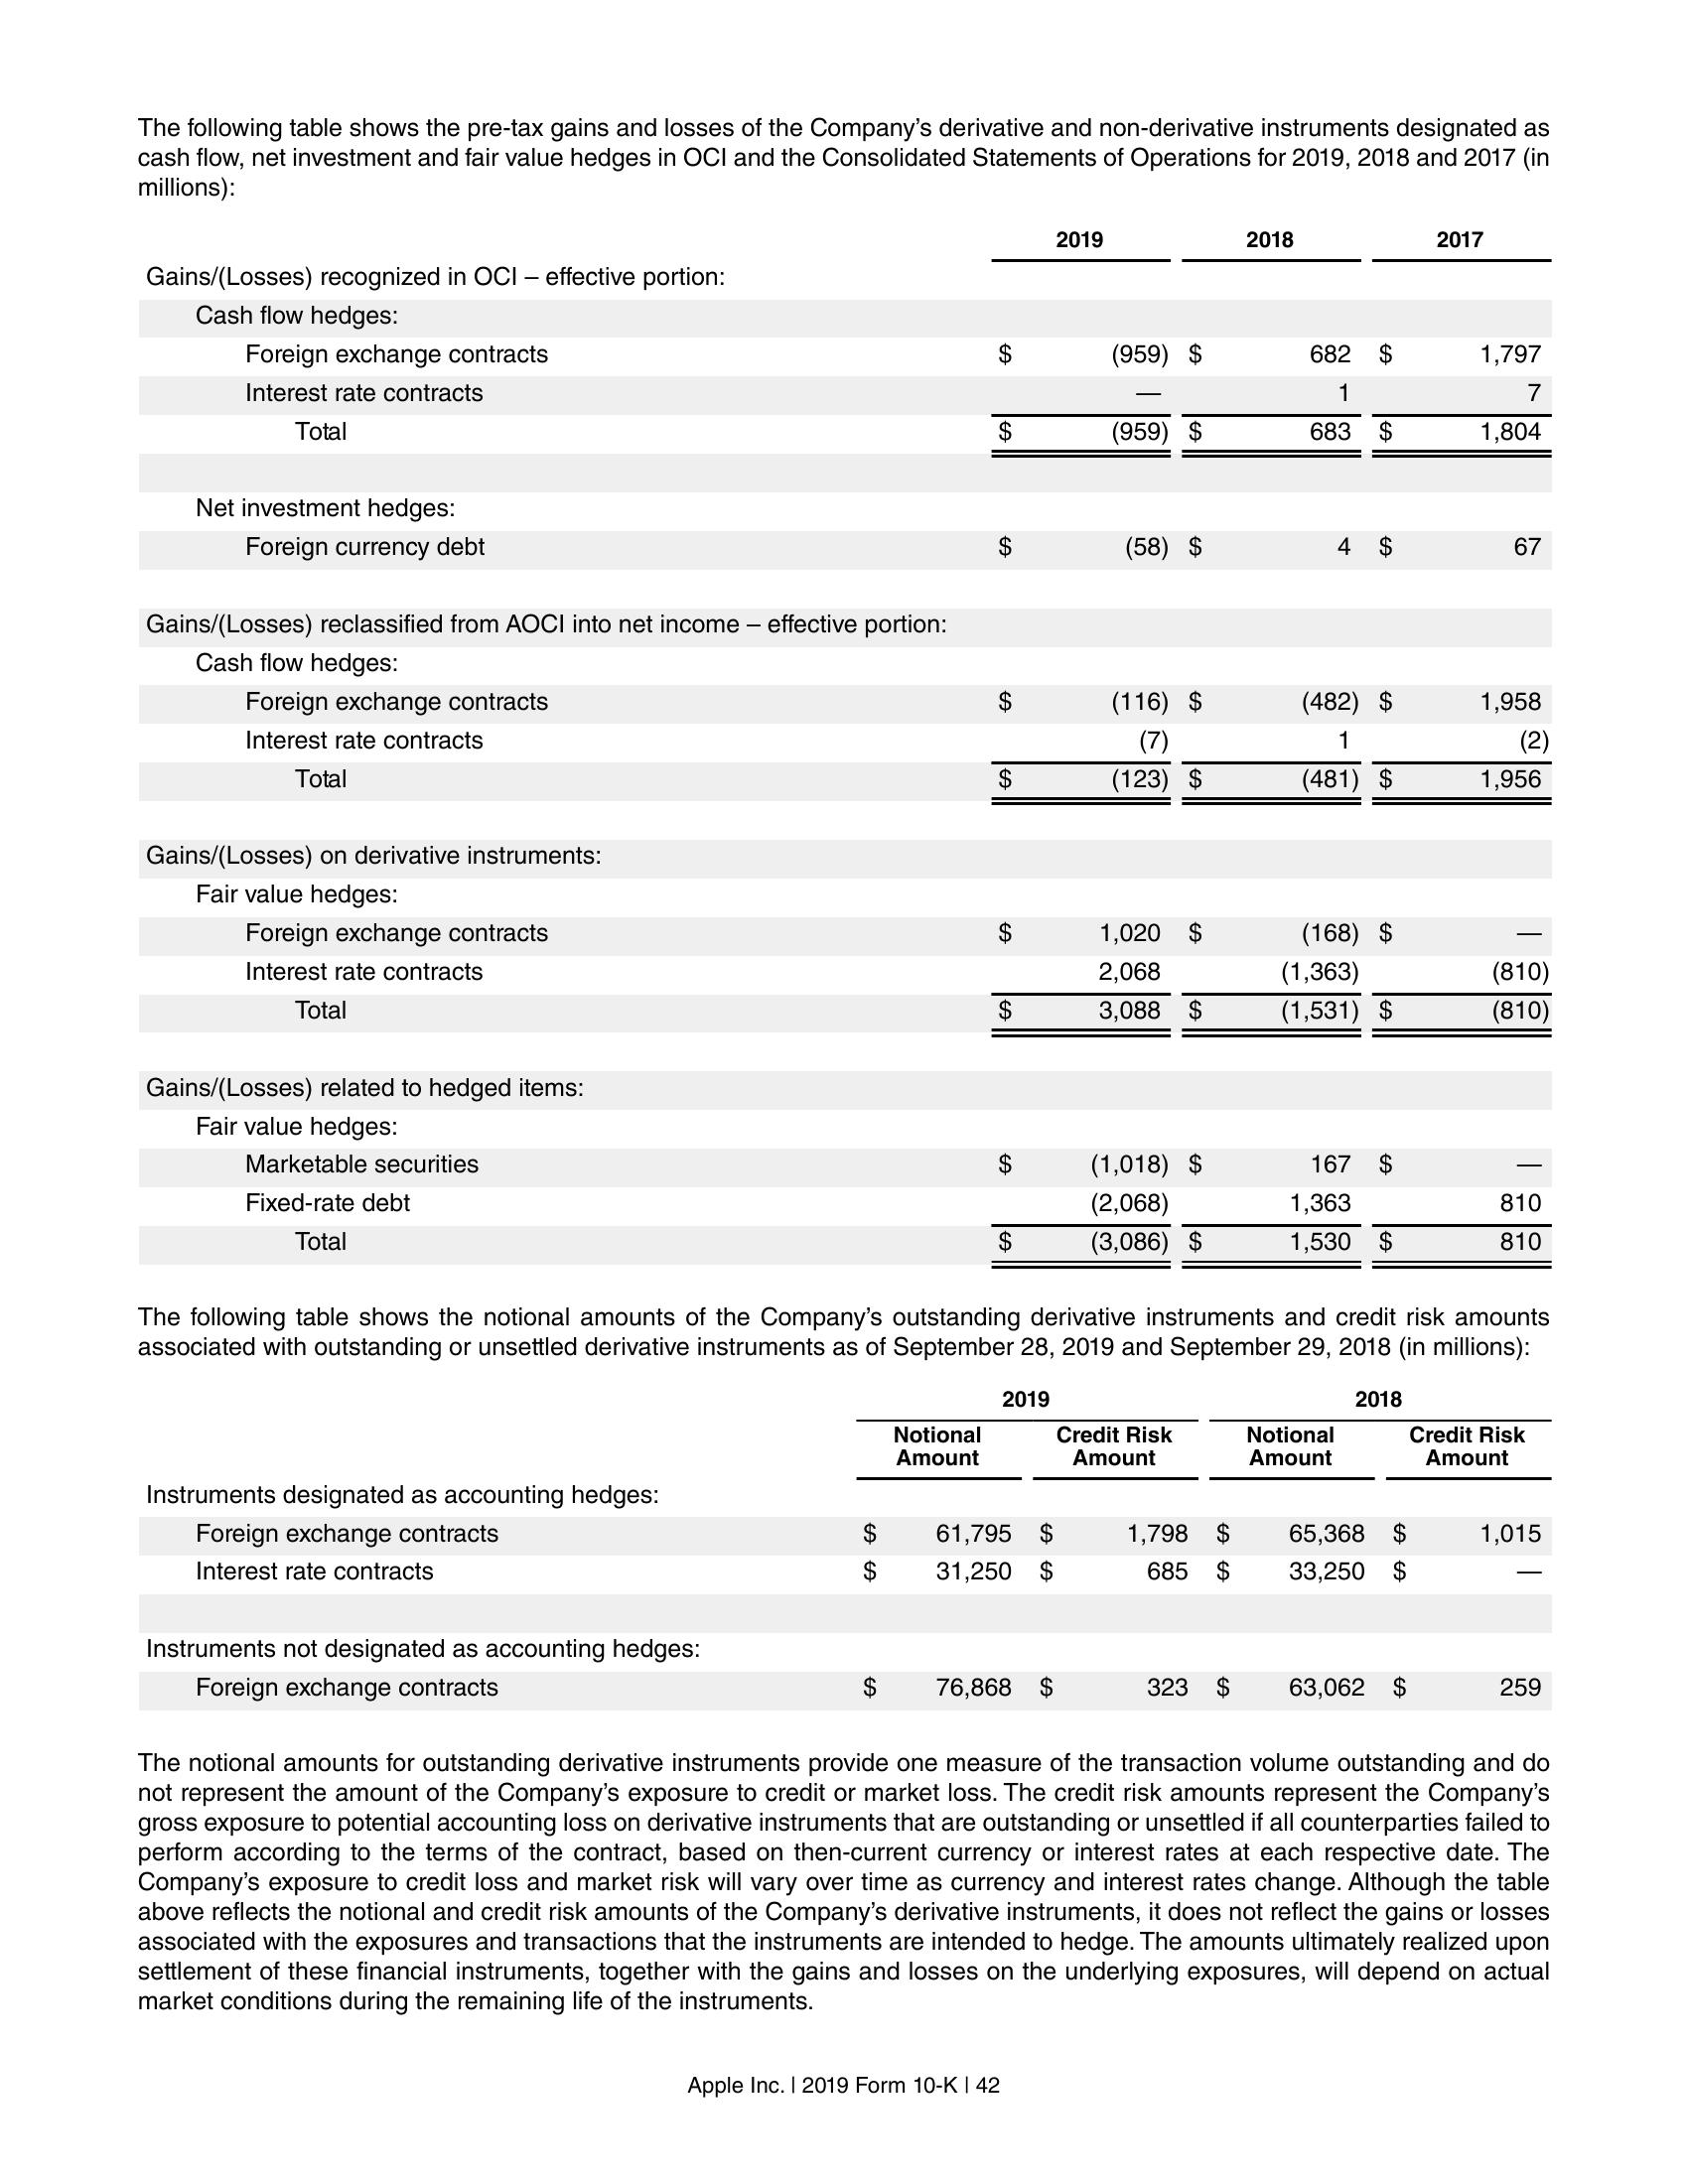table: (128, 218, 1559, 1278), (142, 1377, 1557, 1716)
